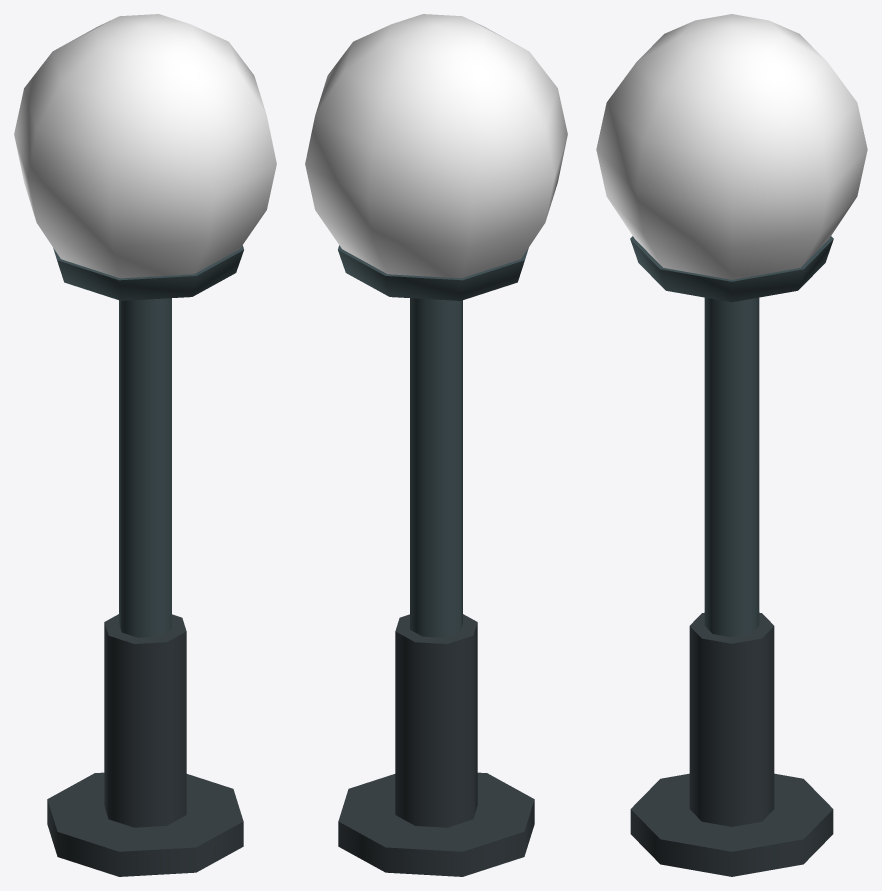
The model's file is ludeng.FBX.
3 renders of one model, left to right at view 1: azimuth 30°, elevation 25°; view 2: azimuth 150°, elevation 25°; view 3: azimuth 270°, elevation 25°, orthographic.
Visible parts, largest first — view 1: ludeng; view 2: ludeng; view 3: ludeng.
Boxes of the visible parts, x1=… form: ludeng: x1=14, y1=14, x2=276, y2=876; ludeng: x1=305, y1=14, x2=567, y2=876; ludeng: x1=596, y1=14, x2=867, y2=876.
Bounding box in the file's own units: 49.68 × 163 × 49.68.
